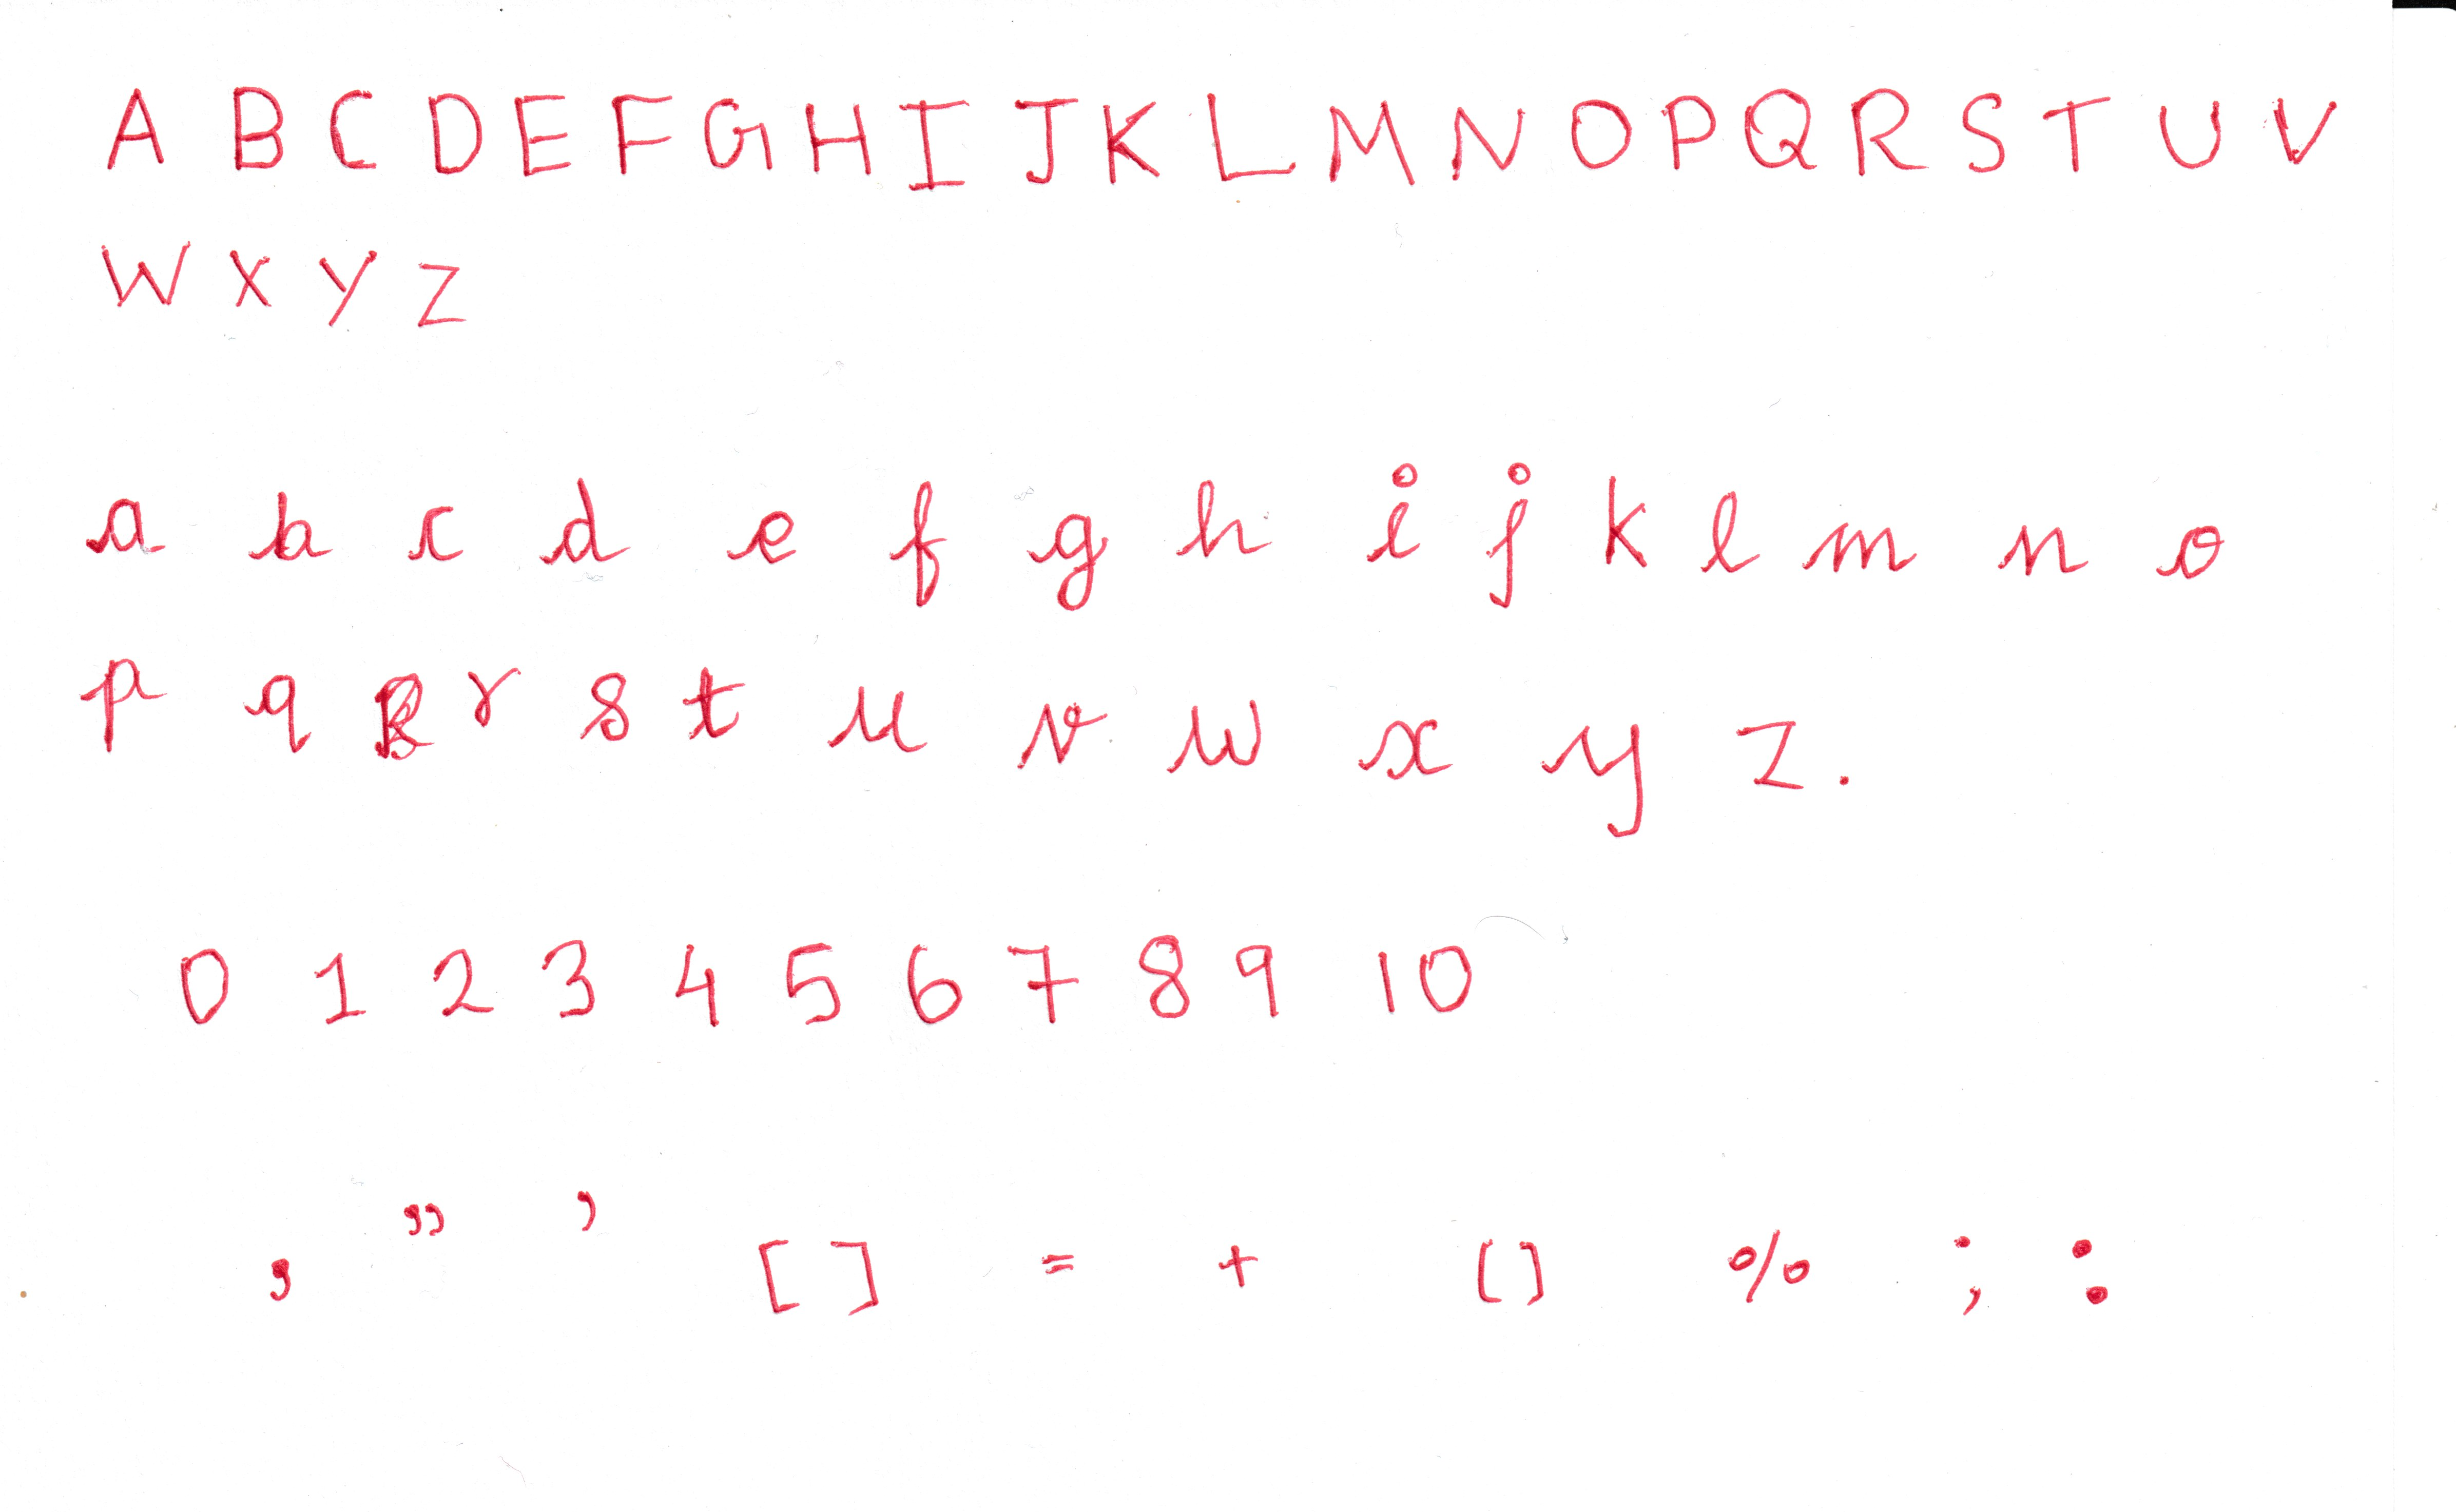A: (98, 84, 172, 179)
B: (219, 77, 296, 182)
C: (316, 77, 393, 188)
D: (412, 77, 496, 195)
E: (510, 91, 581, 181)
F: (603, 91, 684, 184)
G: (696, 89, 782, 188)
H: (795, 84, 886, 195)
I: (896, 96, 977, 200)
J: (1000, 95, 1089, 195)
K: (1098, 89, 1175, 193)
L: (1195, 89, 1300, 200)
M: (1310, 84, 1423, 209)
N: (1442, 95, 1537, 193)
O: (1558, 88, 1642, 182)
P: (1653, 86, 1731, 189)
Q: (1738, 82, 1819, 186)
R: (1830, 84, 1942, 182)
S: (1954, 86, 2016, 182)
T: (2035, 86, 2119, 188)
U: (2153, 93, 2233, 182)
V: (2268, 93, 2342, 179)
W: (89, 239, 202, 312)
X: (214, 240, 291, 316)
Y: (311, 237, 388, 330)
Z: (409, 256, 474, 335)
